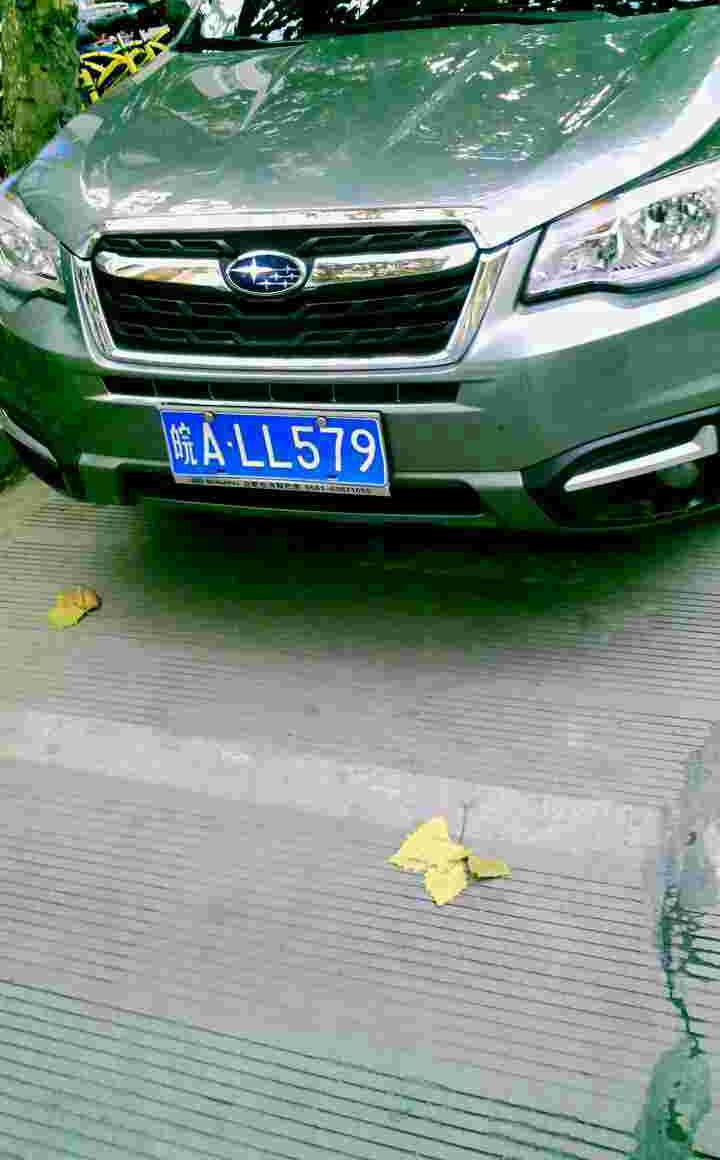license_plate: (151, 418, 399, 483)
